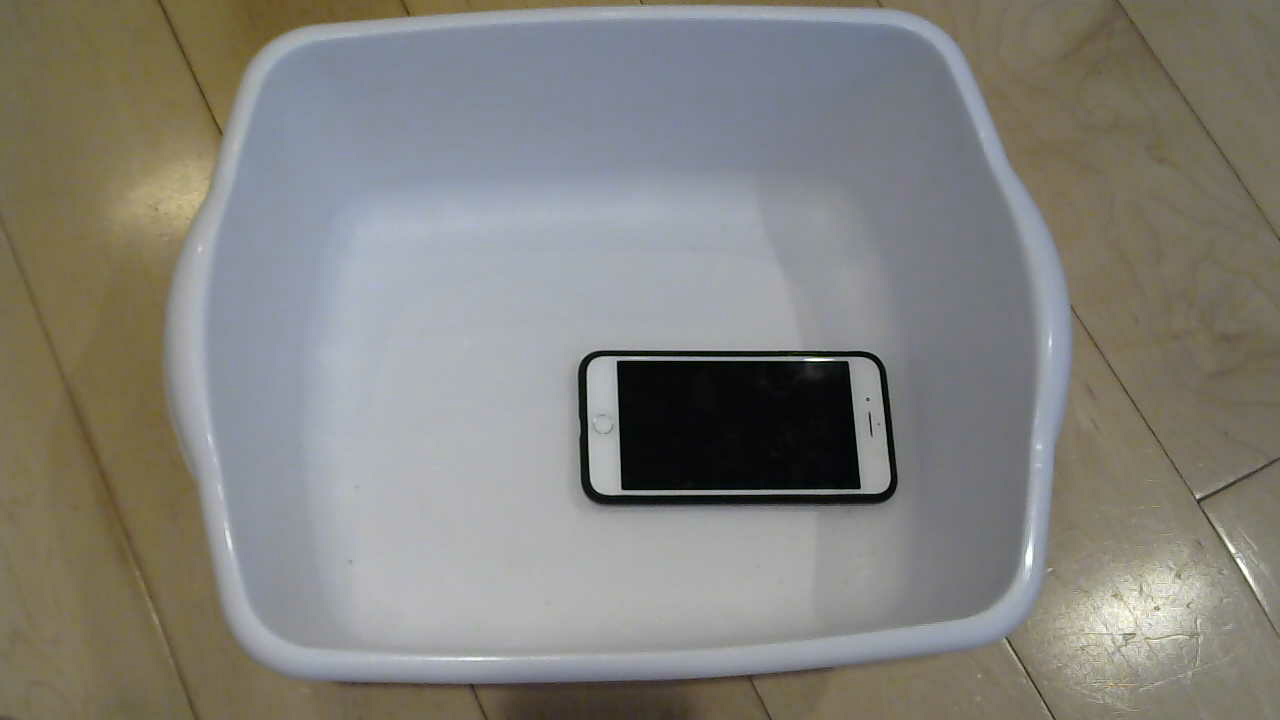phone: (577, 349, 902, 520)
